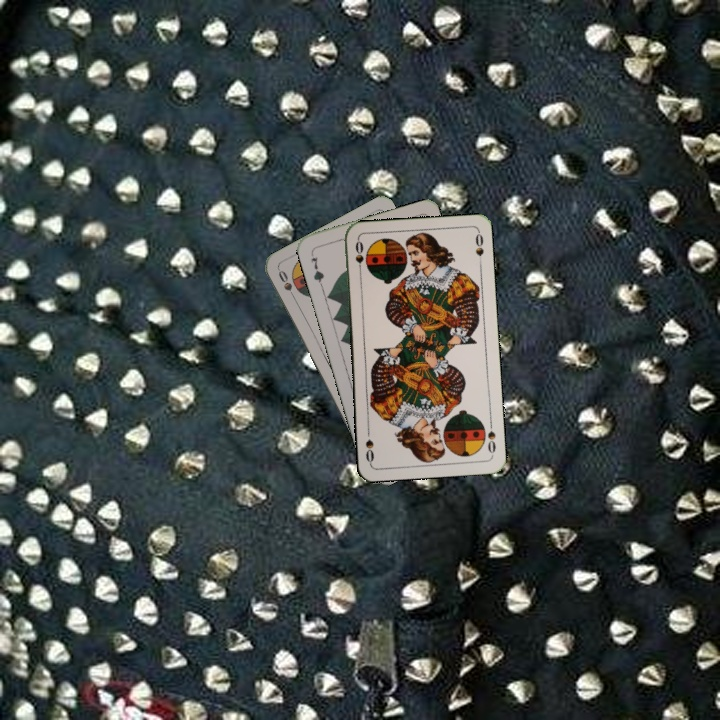G7: (307, 253, 327, 288)
SO: (274, 266, 299, 304), (351, 236, 366, 277), (483, 417, 498, 456)
